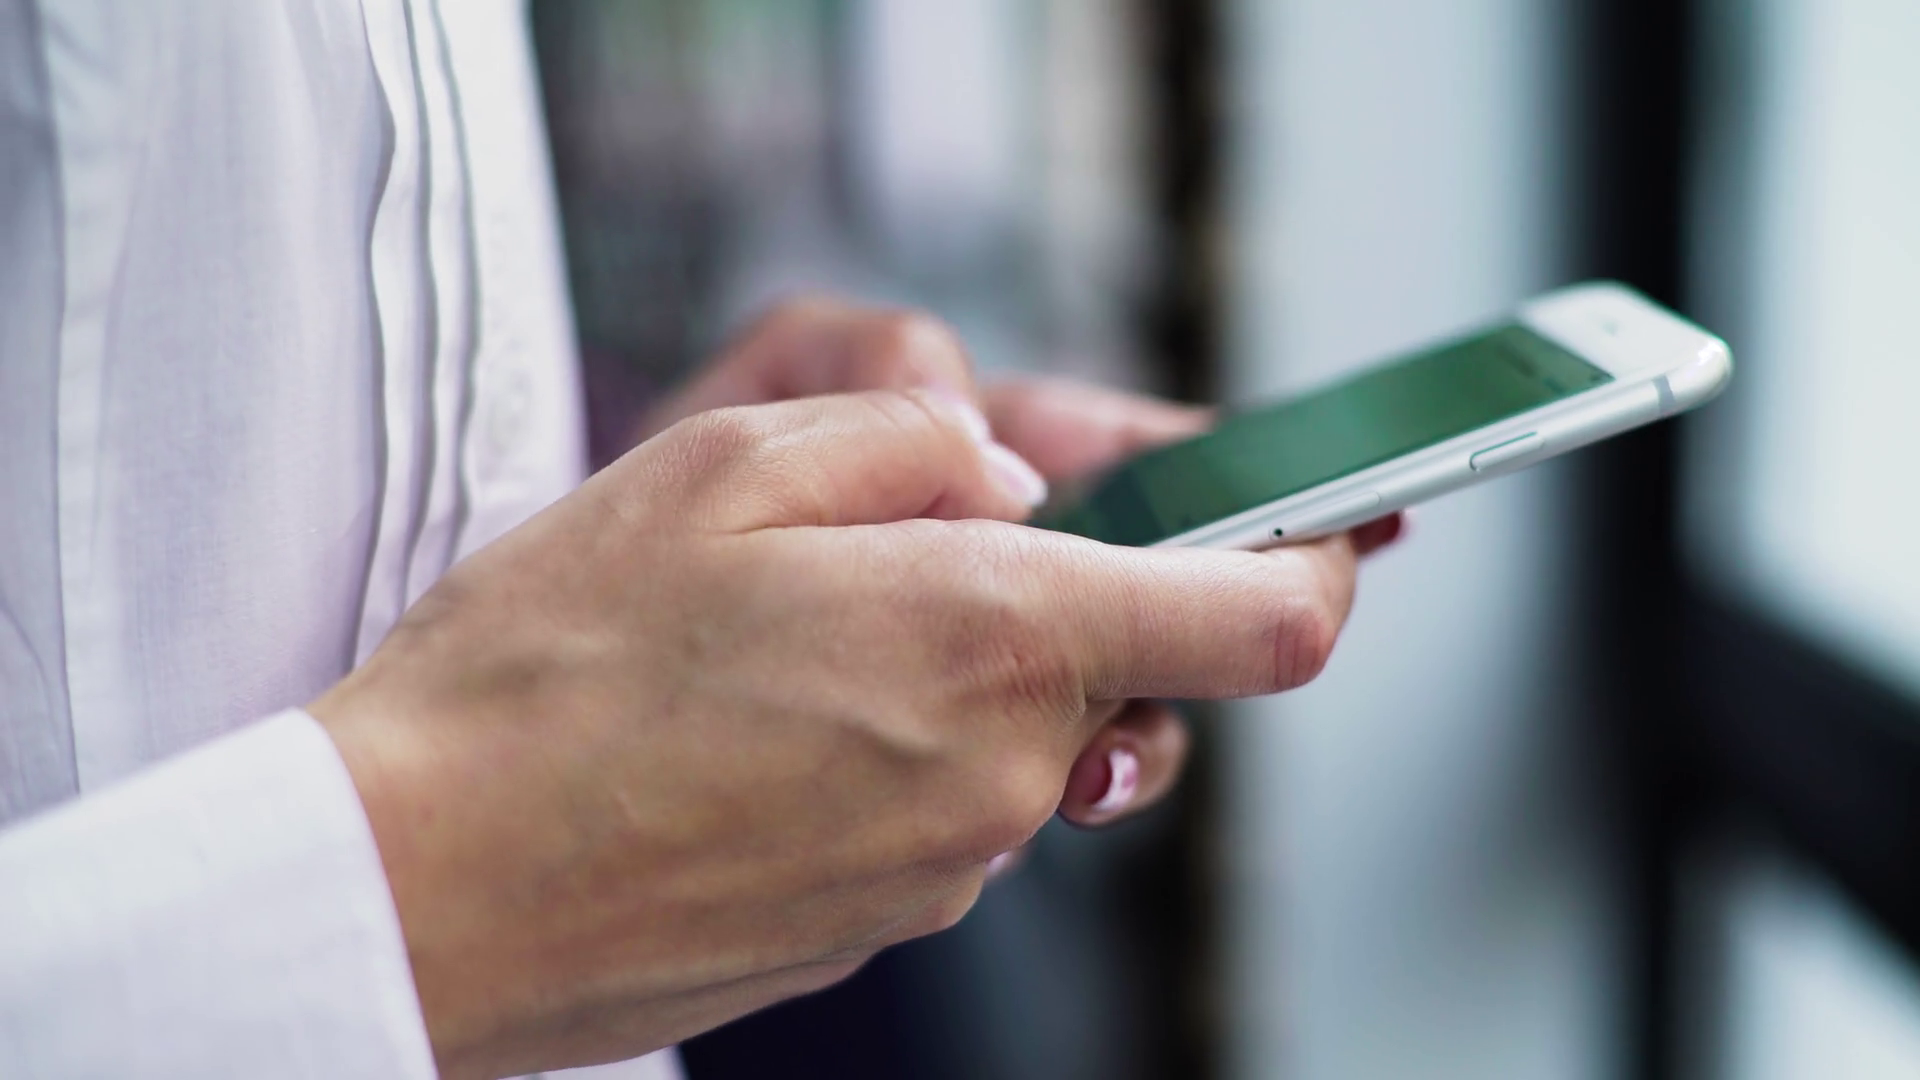Cell Phone: (891, 284, 1729, 582)
